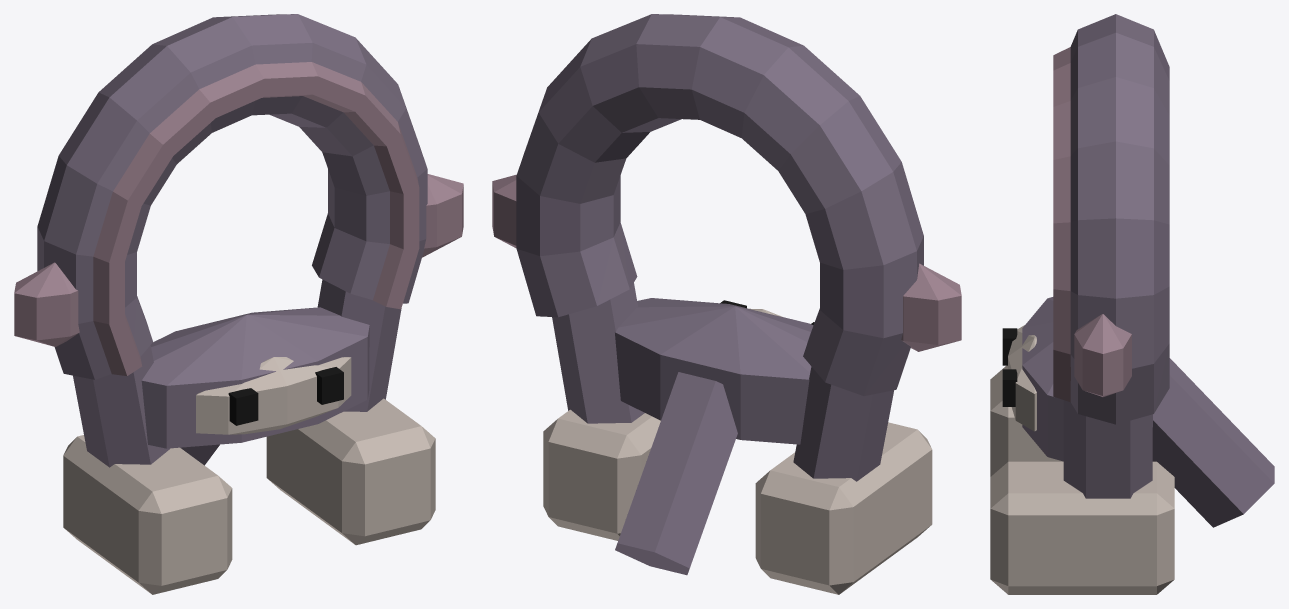
Rendered from thrumkin.glb.
The picture shows the model from 3 angles, left to right: view 1: azimuth 30°, elevation 25°; view 2: azimuth 150°, elevation 25°; view 3: azimuth 270°, elevation 25°; orthographic projection. The views are drawn at different scales.
Visible parts, largest first — view 1: Thrumkin; view 2: Thrumkin; view 3: Thrumkin.
Boxes of the visible parts, bbox=[...] form: Thrumkin: bbox=[14, 14, 463, 594]; Thrumkin: bbox=[492, 14, 961, 594]; Thrumkin: bbox=[990, 14, 1274, 594].
Bounding box in the file's own units: 0.54 × 0.58 × 0.3.
